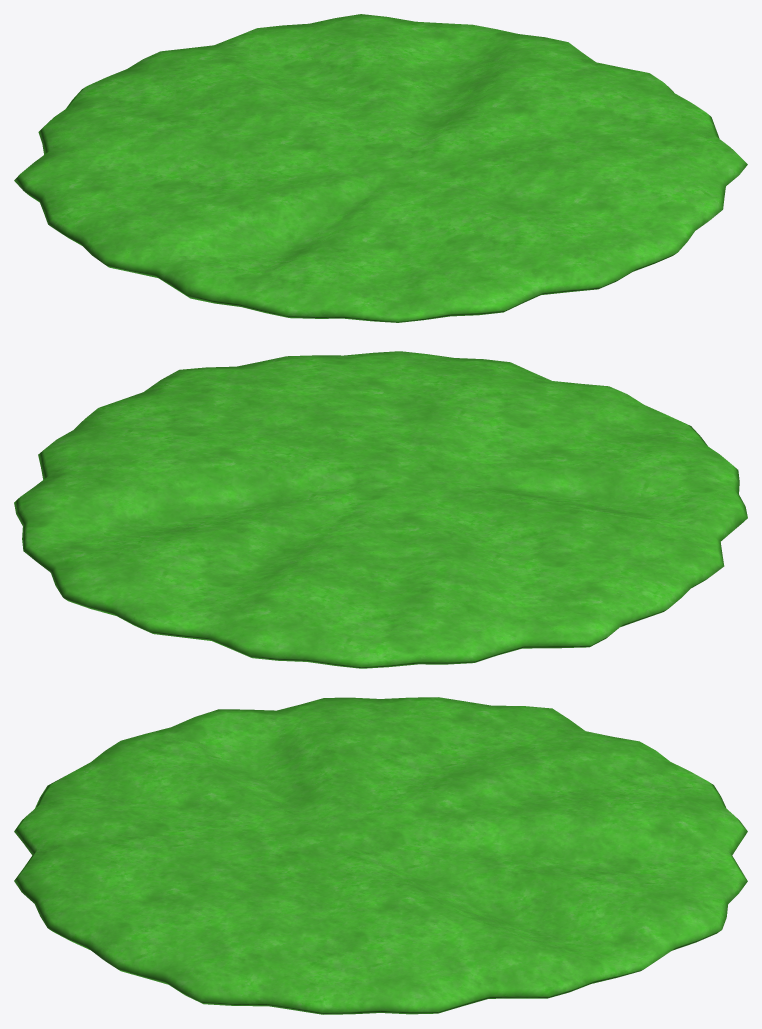
Rendered from lilypad.fbx.
3 views of the same model, one above another, from view 1: azimuth 30°, elevation 25°; view 2: azimuth 150°, elevation 25°; view 3: azimuth 270°, elevation 25° (orthographic). The views are drawn at different scales.
Visible parts, largest first — view 1: LilyPad; view 2: LilyPad; view 3: LilyPad.
Part boxes in pixels (<box>): LilyPad: <box>14,14,747,322</box>; LilyPad: <box>14,351,747,668</box>; LilyPad: <box>14,697,747,1014</box>.
Bounding box in the file's own units: 9.5 × 0.5336 × 9.44.
